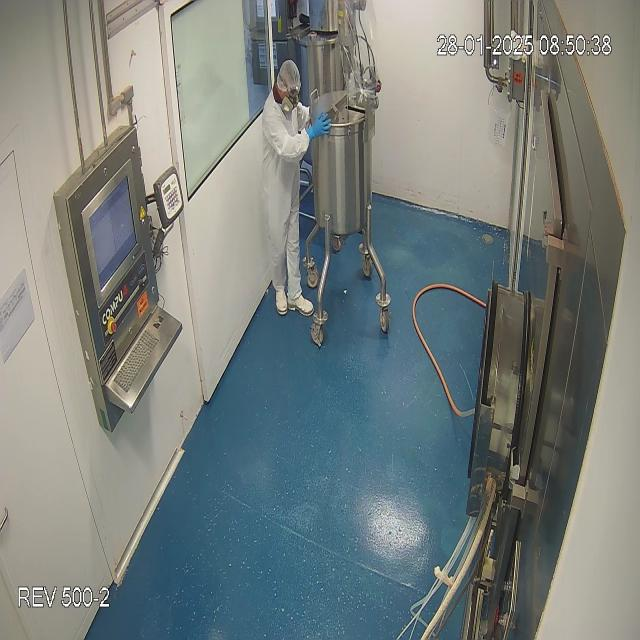bota: (269, 287, 317, 321)
pessoa: (262, 61, 332, 316)
touca: (276, 60, 304, 101)
